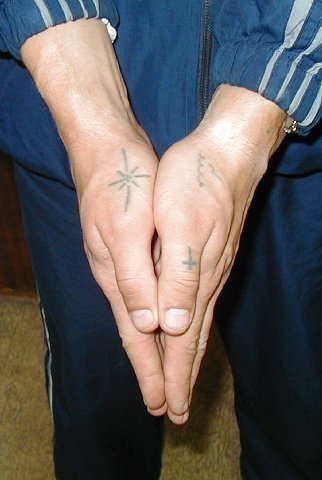tatu9_krest: (174, 241, 199, 277), (120, 171, 137, 191)
